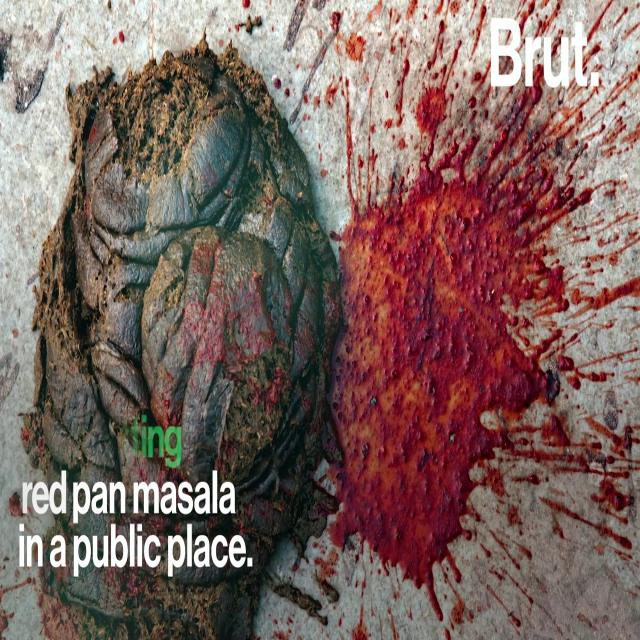spit: (322, 113, 567, 530)
